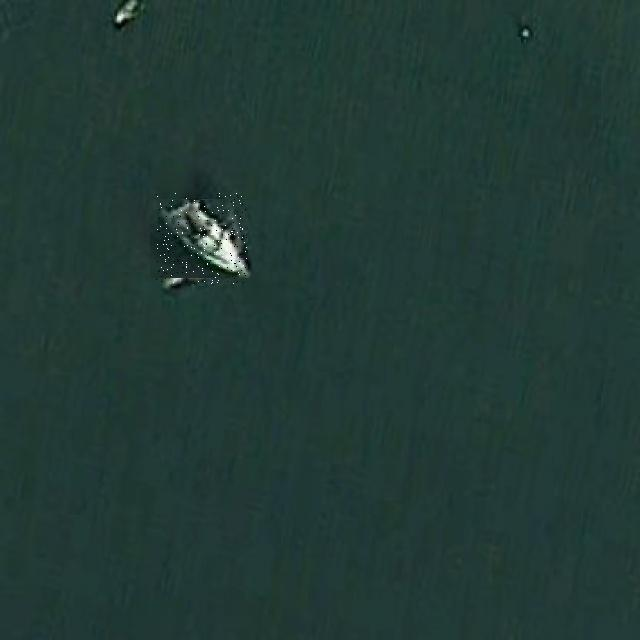boat: (156, 193, 247, 284)
